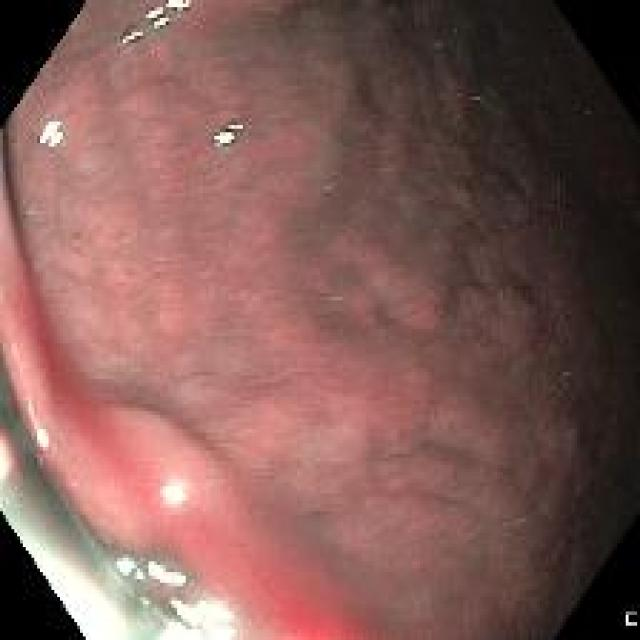blur: (65, 39, 606, 625)
color misalignment: (1, 434, 17, 489)
contrast: (491, 3, 639, 638)
saturation: (24, 531, 236, 636)
specularity: (156, 592, 239, 637), (28, 403, 57, 452), (144, 560, 189, 589), (209, 116, 247, 150), (37, 118, 70, 148), (143, 3, 172, 33), (161, 477, 186, 508), (114, 552, 142, 579), (166, 1, 202, 14), (121, 28, 144, 40)
